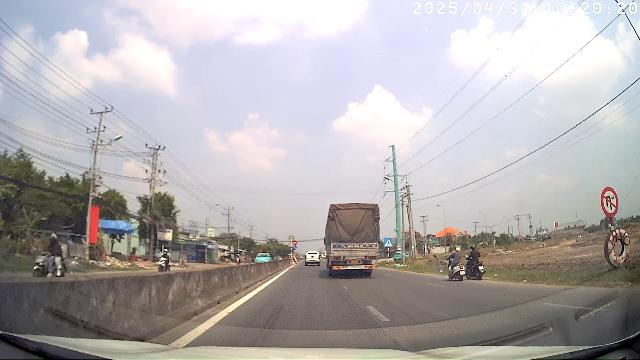124b-cam-oto-quay-dau-xe: (600, 186, 619, 218)
423a-duong-nguoi-di-bo-sang-ngang-1: (384, 237, 393, 247)
